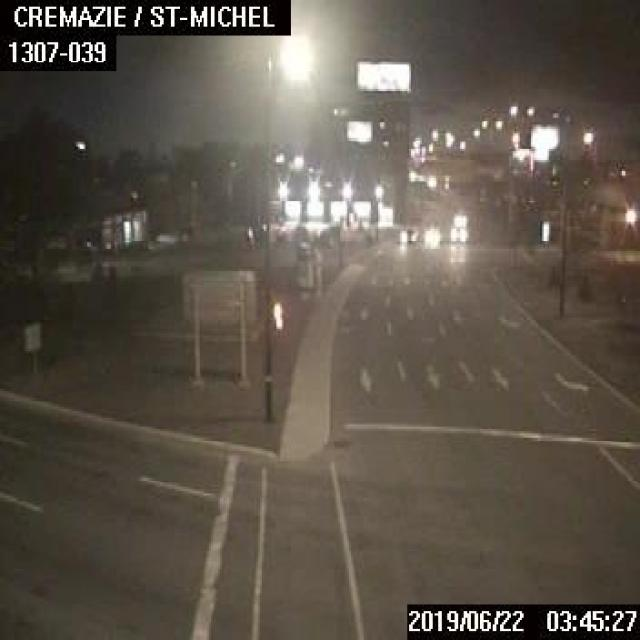vehicle: (449, 224, 467, 243), (398, 226, 416, 242)
